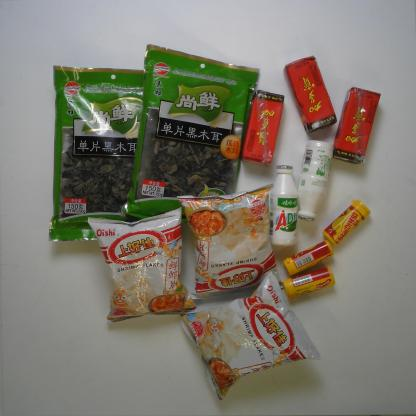Candy: (318, 198, 374, 253), (278, 267, 347, 304), (280, 240, 338, 274)
Dried Food: (129, 36, 262, 228), (46, 61, 175, 245)
Drink: (284, 54, 344, 137), (233, 84, 291, 167), (333, 84, 386, 162)
Milk: (293, 132, 338, 222), (263, 156, 305, 248)
Puffed Food: (177, 271, 328, 406), (84, 204, 198, 327), (174, 186, 287, 300)
